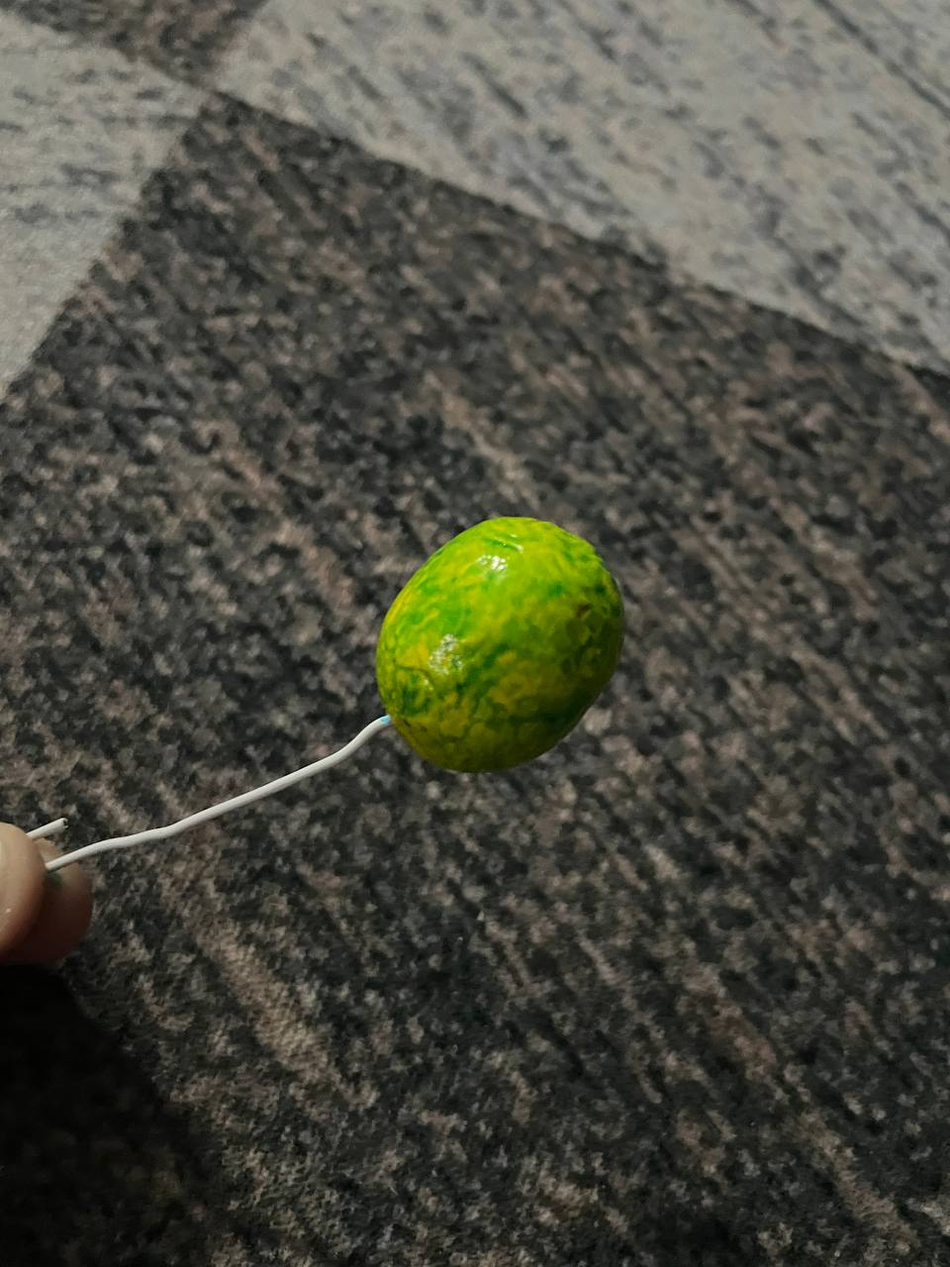lime_unripe: (373, 518, 627, 778)
